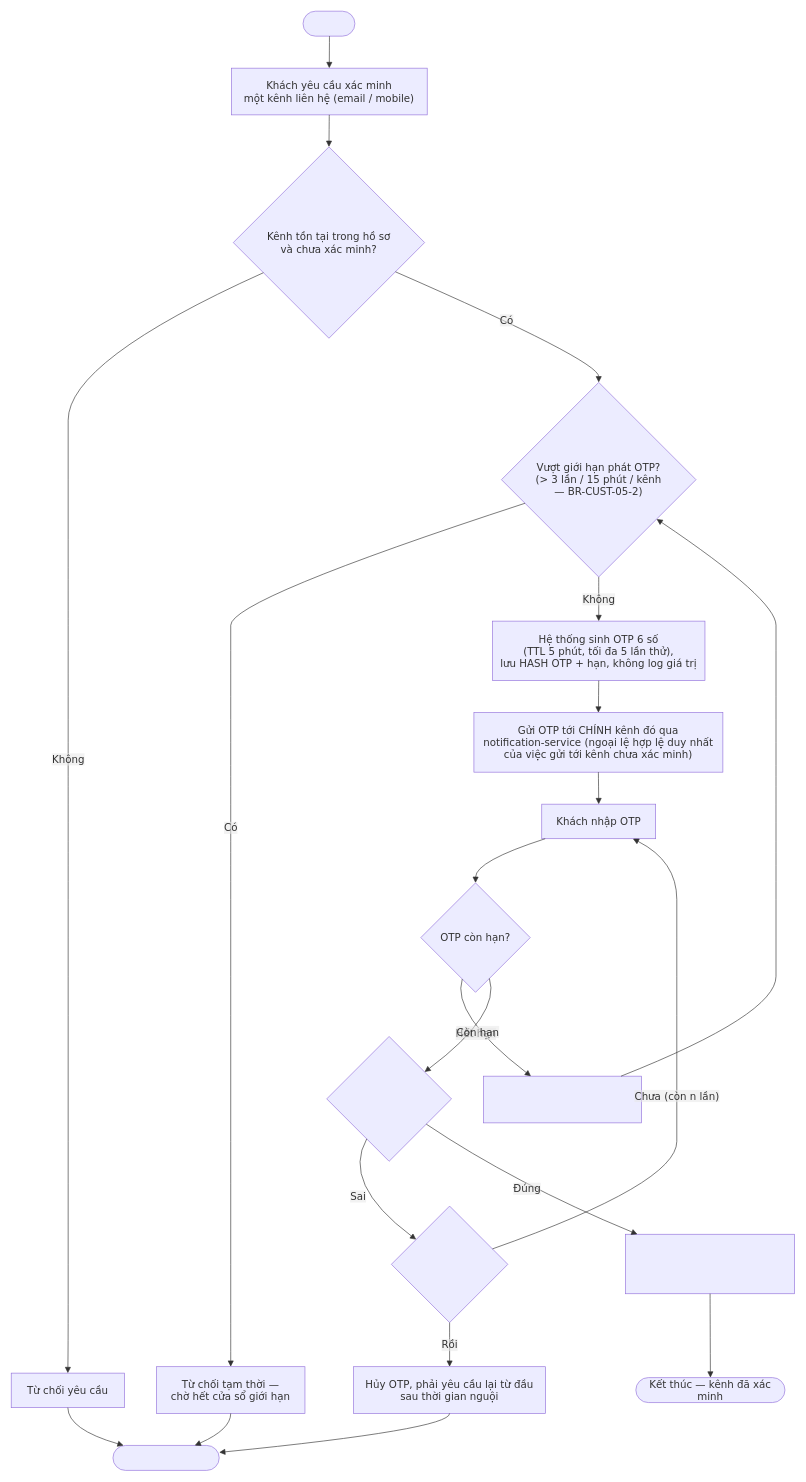
Some shapes in this 806 by 1482 pixel diagram are drawn without their labels. Here are the shapes that lost their labels. From the top down, the centre of each, then its label:
At point (328, 23): "Bắt đầu".
At point (389, 1098): "OTP khớp hash?".
At point (562, 1099): "Yêu cầu gửi lại — tính vào giới hạn tần suất".
At point (449, 1264): "Hết 5 lần thử?".
At point (710, 1264): "Đặt verified_at = now(), ghi audit (OTP dùng một lần — BR-CUST-05-1)".
At point (165, 1457): "Kết thúc — thất bại".
